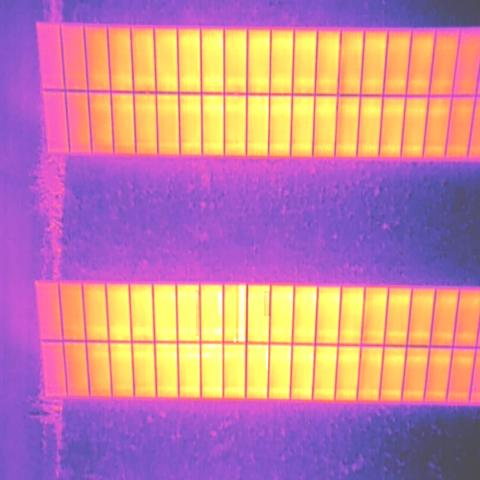fault: (236, 284, 248, 342), (264, 291, 270, 316), (196, 290, 199, 336), (180, 352, 199, 359), (218, 292, 222, 315), (204, 344, 221, 349), (214, 330, 222, 336), (266, 324, 269, 339), (266, 349, 268, 370), (219, 351, 222, 362), (203, 353, 210, 357), (288, 352, 290, 361), (234, 338, 236, 342)
